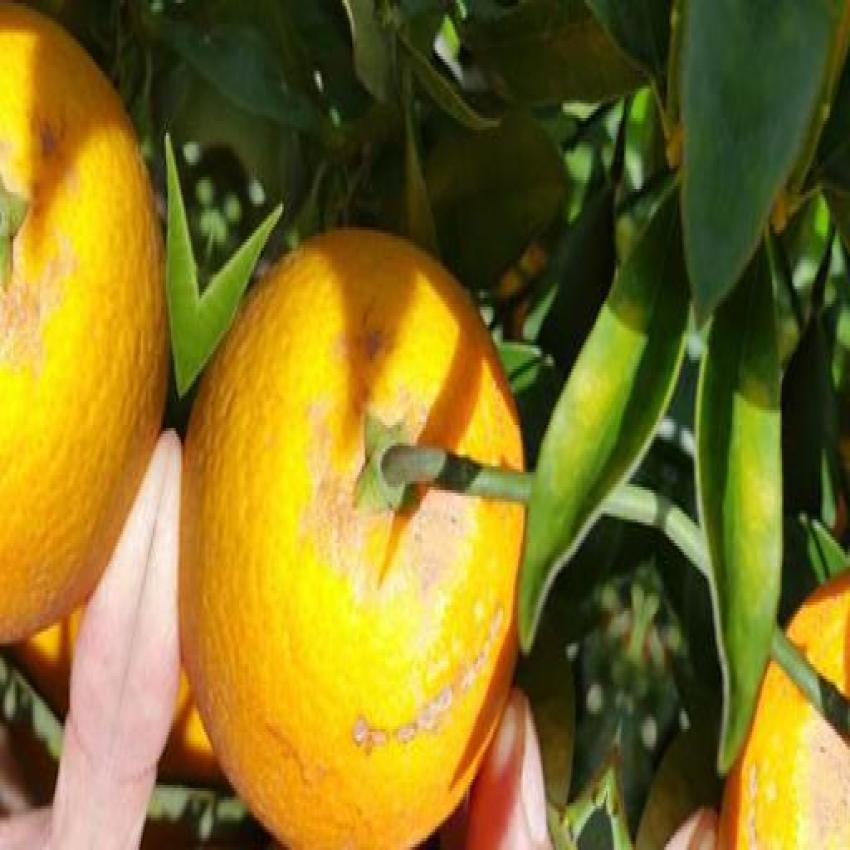Mal estado: (177, 192, 519, 839), (0, 0, 163, 647)
